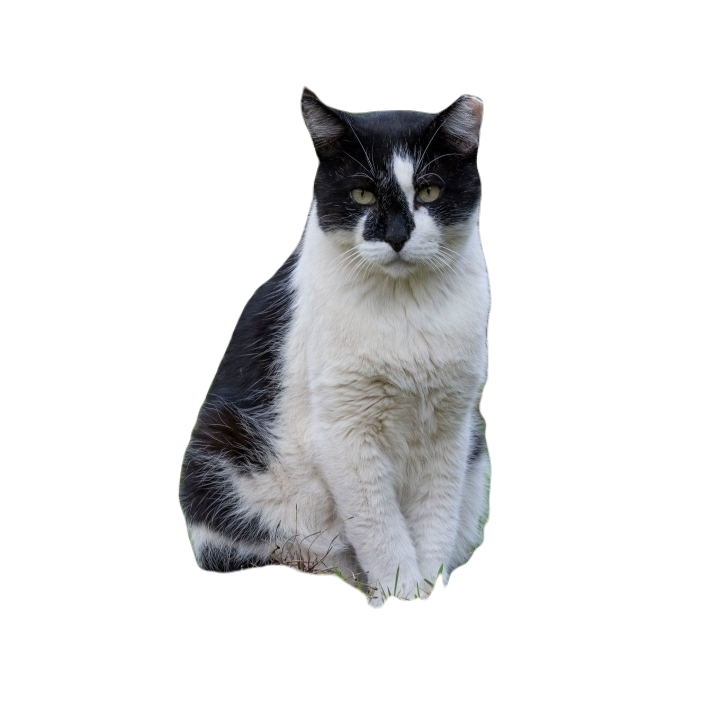Cat: (161, 82, 544, 610)
